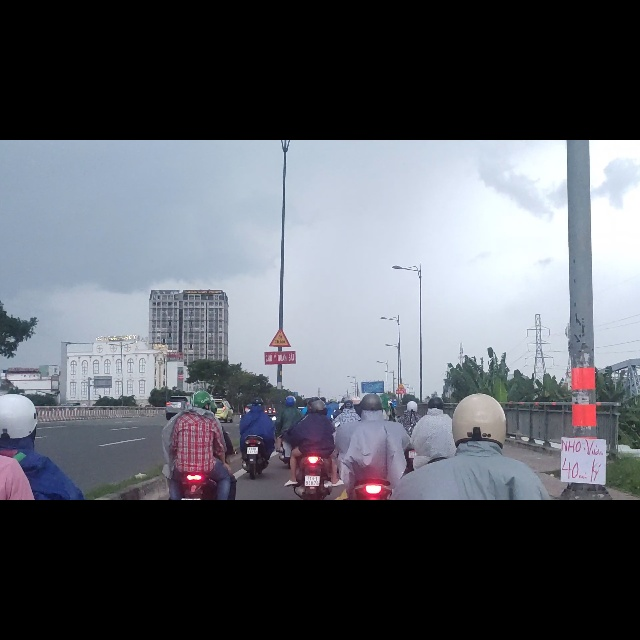bien_nguy_hiem: (269, 333, 291, 369)
